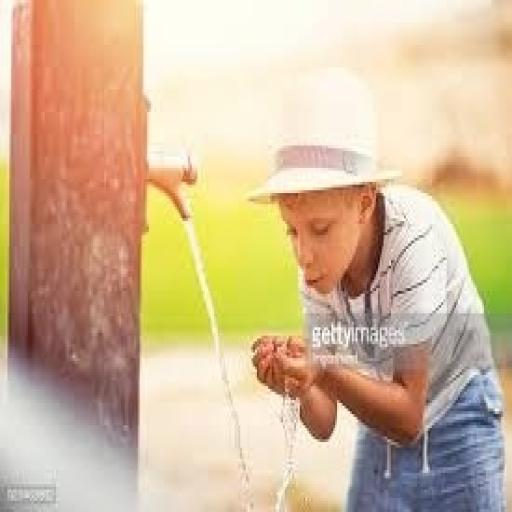drinking: (68, 80, 424, 500)
